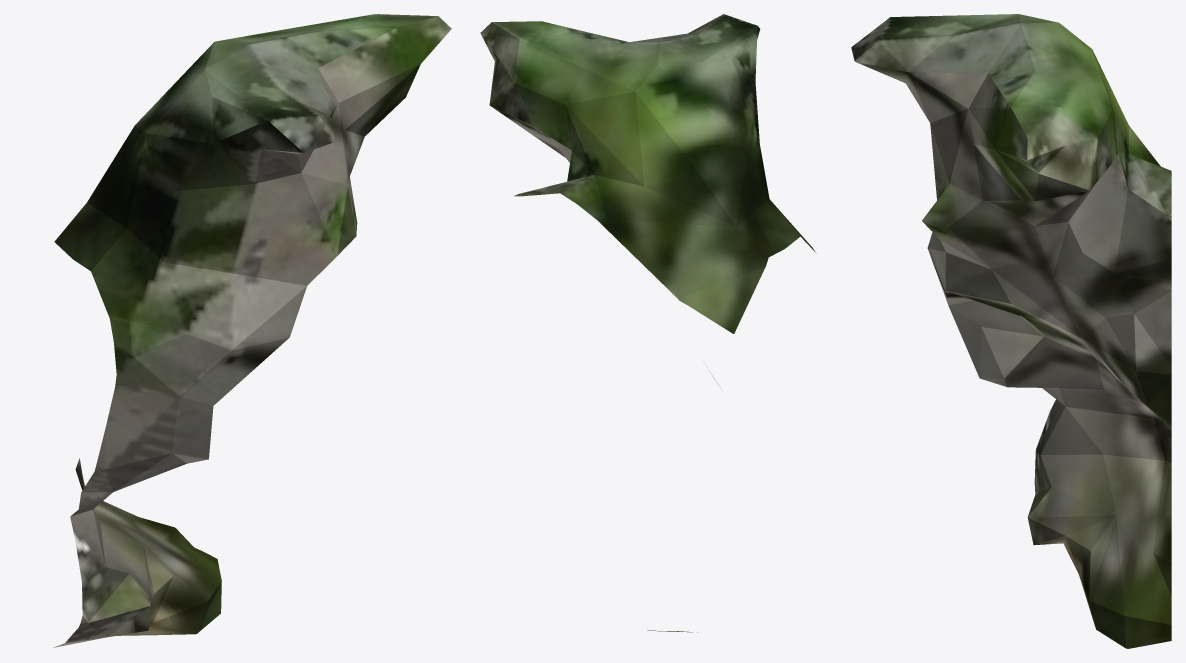
The picture shows the model from 3 angles, left to right: view 1: azimuth 30°, elevation 25°; view 2: azimuth 150°, elevation 25°; view 3: azimuth 270°, elevation 25°; orthographic projection. The views are drawn at different scales.
Size of the model in its own units: 0.2504 by 0.401 by 0.19.
1 material, 1 textured.
